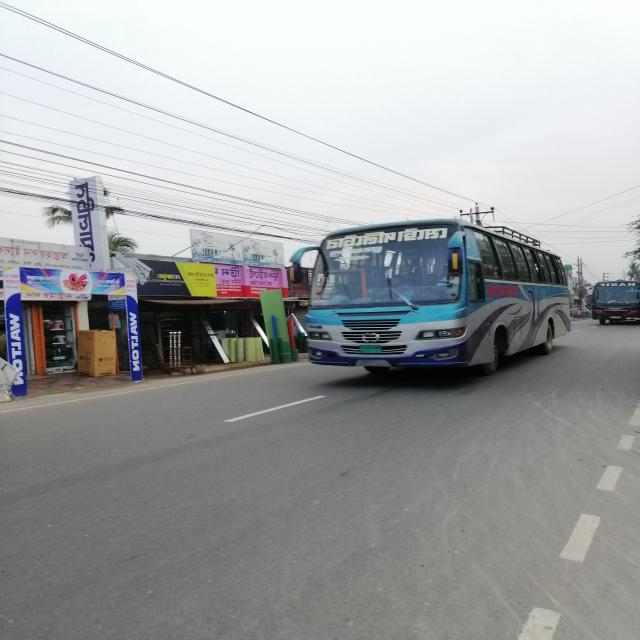Bus: (260, 214, 578, 398)
